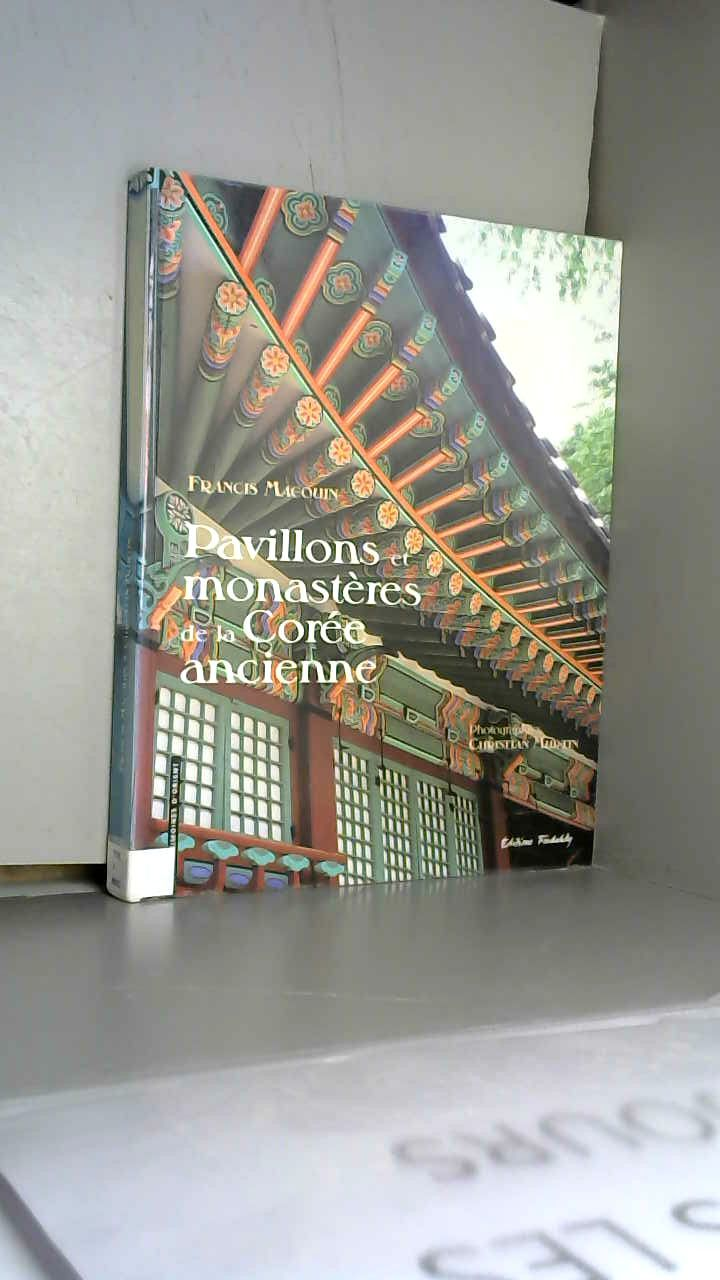book: (80, 140, 716, 942)
